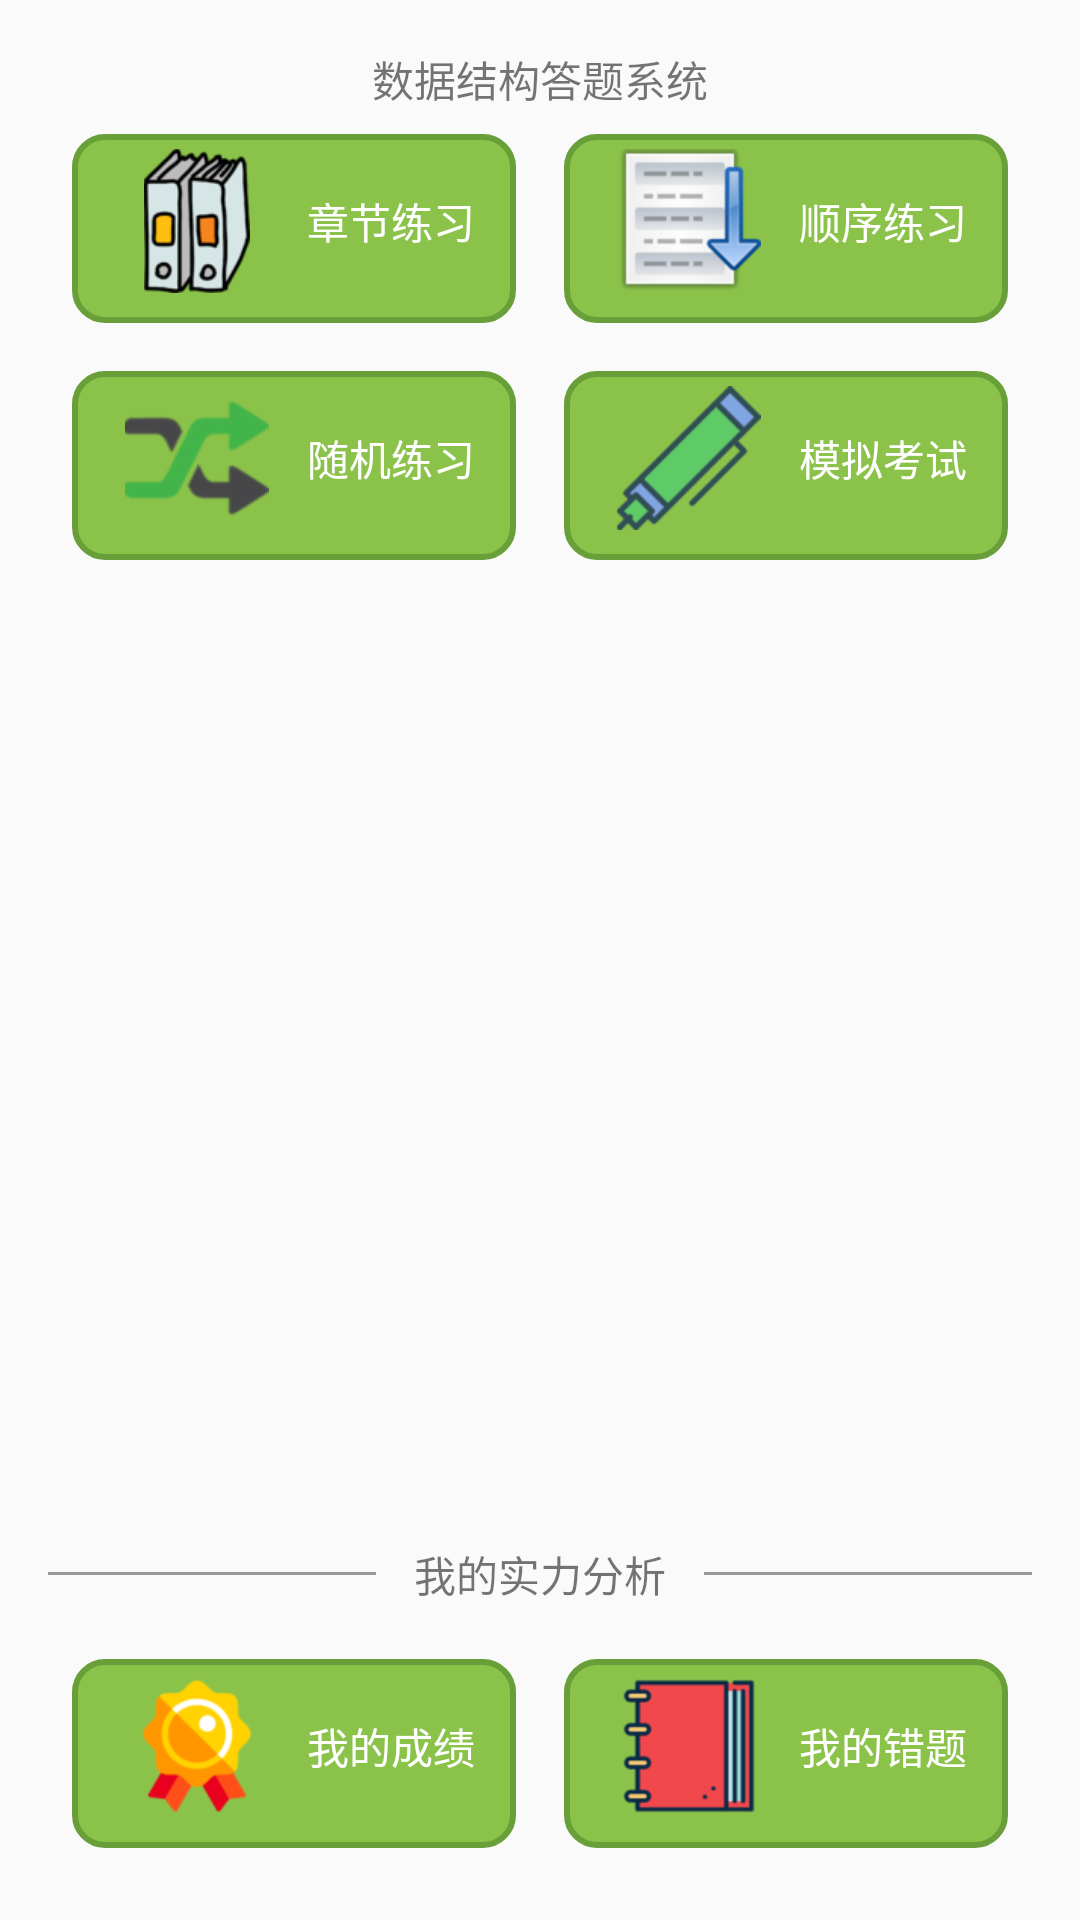

Named icons in this screenshot (1080 x 1920) and their bounding boxes, box(x1, y1, x2, y2):
monikaoshi: box(617, 386, 761, 530)
shunxulianxi: box(622, 149, 761, 288)
suijilianxi: box(125, 402, 269, 515)
wodechengji: box(142, 1680, 252, 1812)
wodecuoti: box(623, 1680, 755, 1812)
zhangjielianxi: box(144, 149, 250, 293)
